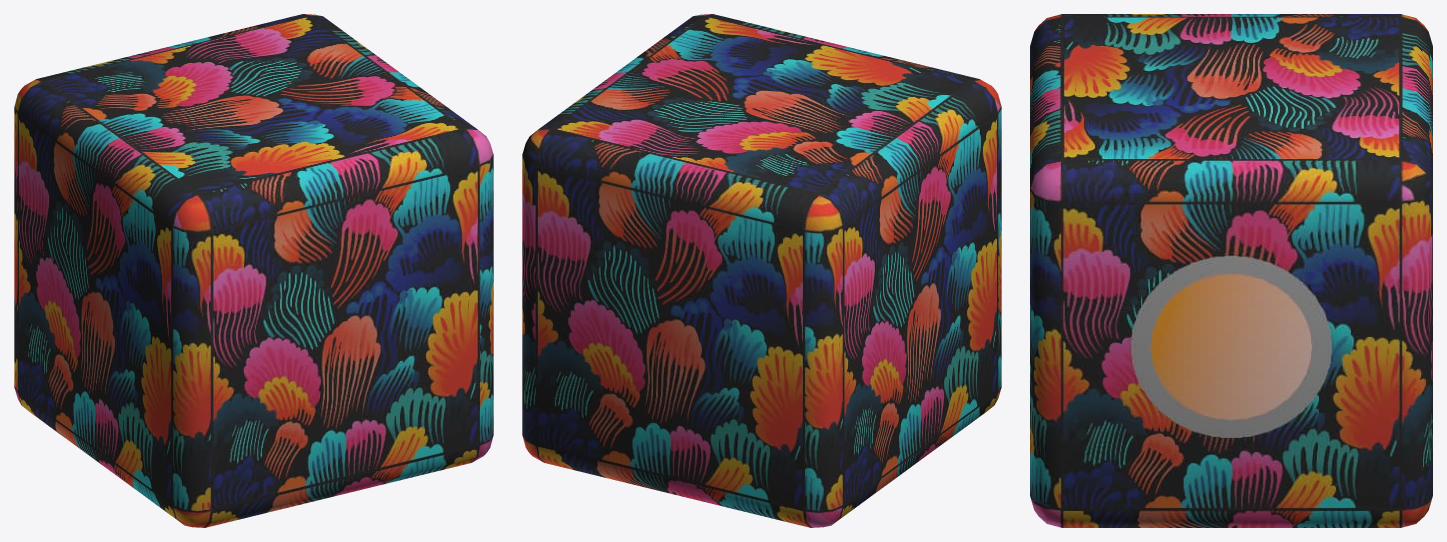
The model's file is nakagin_capsule_color.glb.
3 renders of one model, left to right at view 1: azimuth 30°, elevation 25°; view 2: azimuth 150°, elevation 25°; view 3: azimuth 270°, elevation 25°, orthographic. The views are drawn at different scales.
Parts seen in each view (by area): view 1: capsule_low_white; view 2: capsule_low_white; view 3: capsule_low_white.
Part boxes in pixels (box(x1,y1,x2,y2)): capsule_low_white: box(14, 14, 493, 527); capsule_low_white: box(522, 14, 1001, 527); capsule_low_white: box(1030, 14, 1432, 527).
Size of the model in its own units: 1 by 1 by 1.
1 material, 1 textured.
